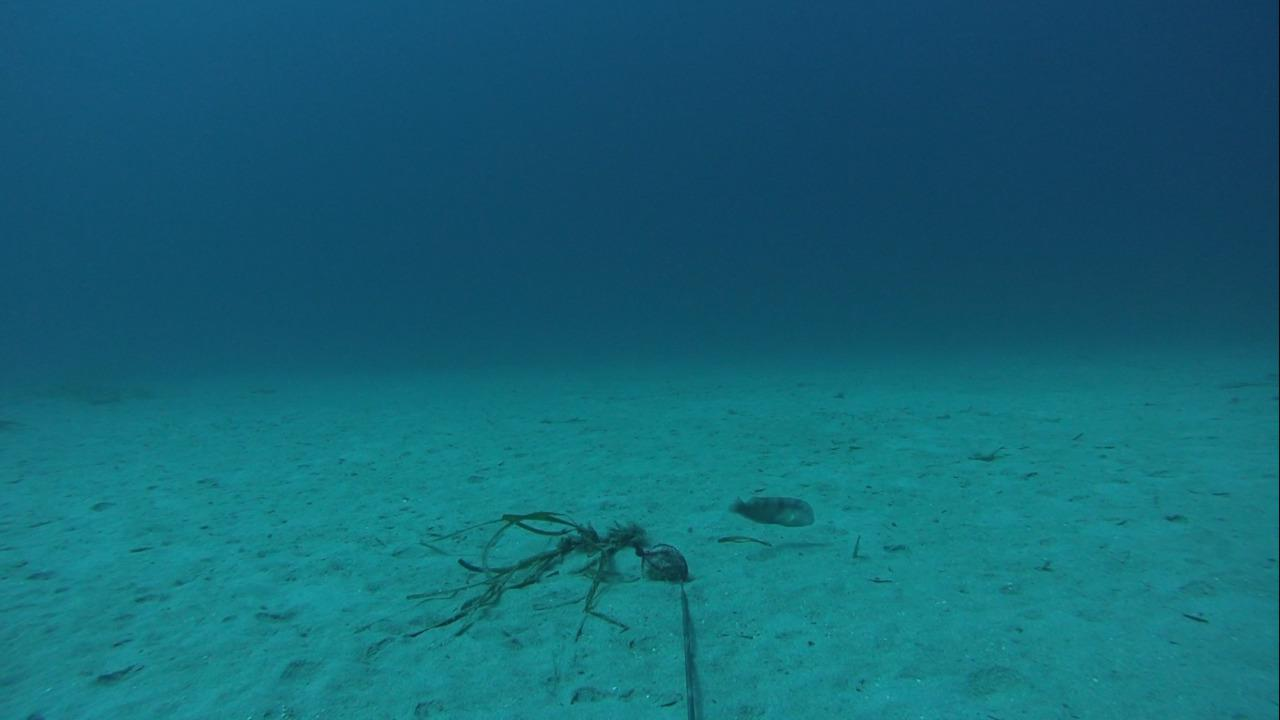raor: (726, 492, 817, 530)
